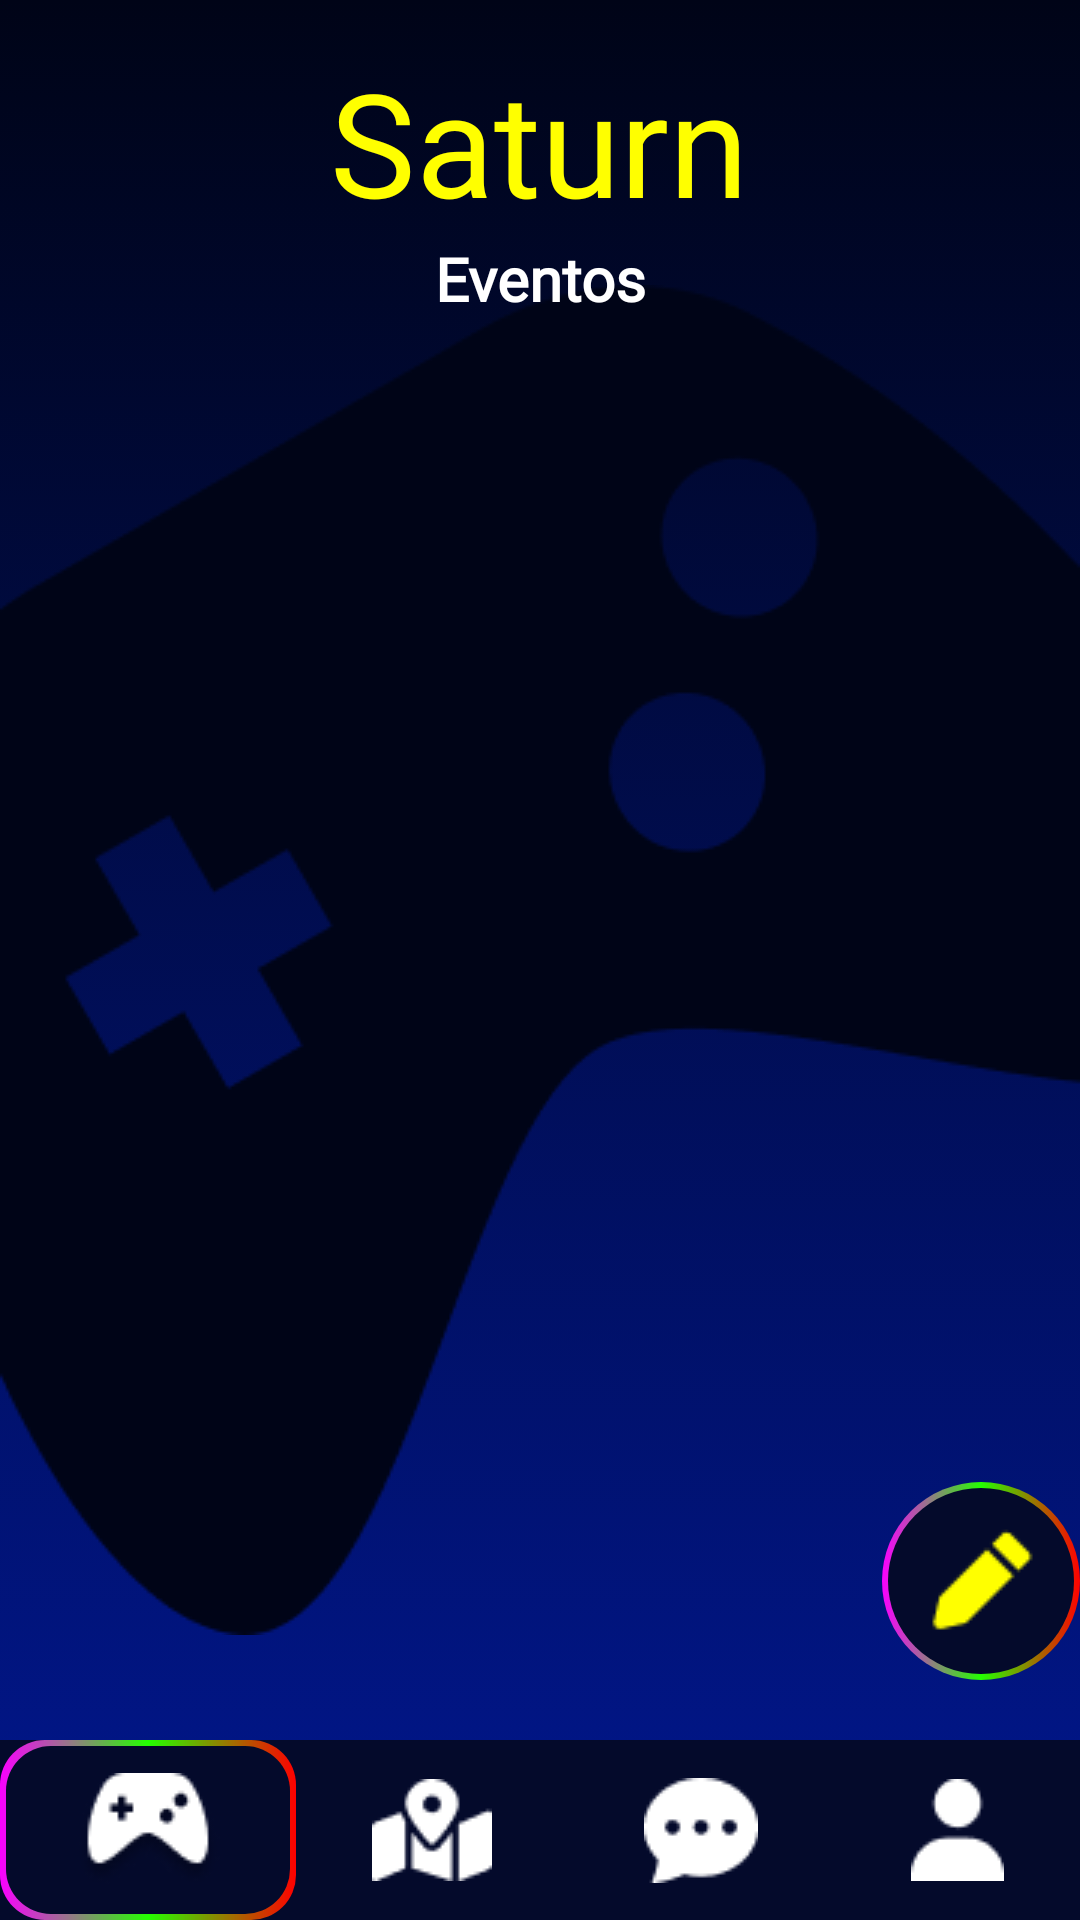

Locate icon controls on the screen. Image size 1080*1920, boxes as (x1, y1, x2, y2).
controlrecto: (0, 1740, 296, 1920)
mapa: (372, 1779, 492, 1881)
pencil: (882, 1482, 1080, 1680)
